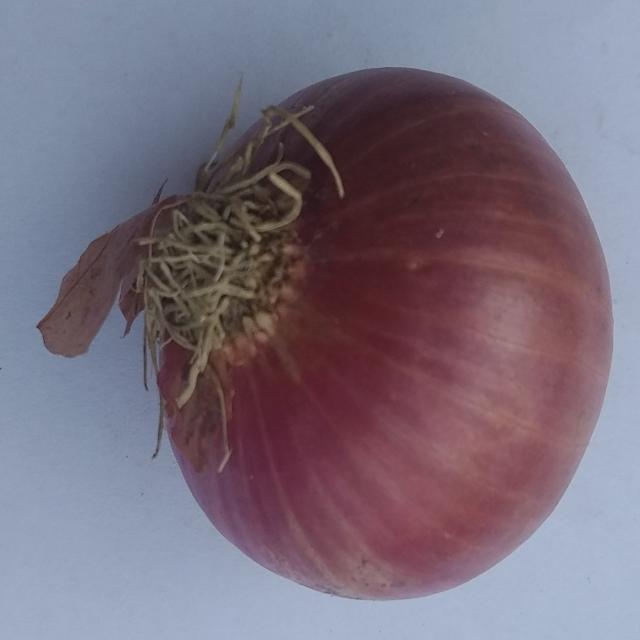onion: (38, 67, 615, 603)
